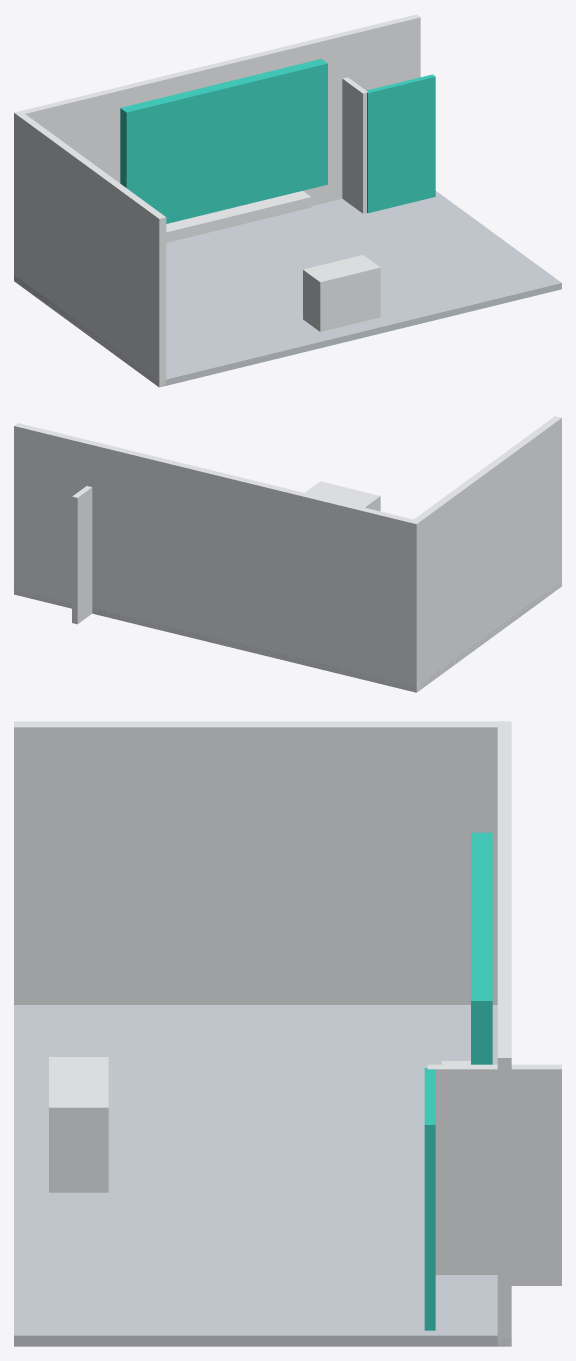
The picture shows the model from 3 angles, top to bottom: view 1: azimuth 30°, elevation 25°; view 2: azimuth 150°, elevation 25°; view 3: azimuth 270°, elevation 25°; orthographic projection. The views are drawn at different scales.
Parts seen in each view (by area): view 1: Exhibition Booth Concept; view 2: Exhibition Booth Concept; view 3: Exhibition Booth Concept.
Part boxes in pixels (<box>): Exhibition Booth Concept: <box>14,14,561,387</box>; Exhibition Booth Concept: <box>14,416,561,692</box>; Exhibition Booth Concept: <box>14,721,561,1346</box>.
Bounding box in the file's own units: 8 × 3.2 × 5.51.
